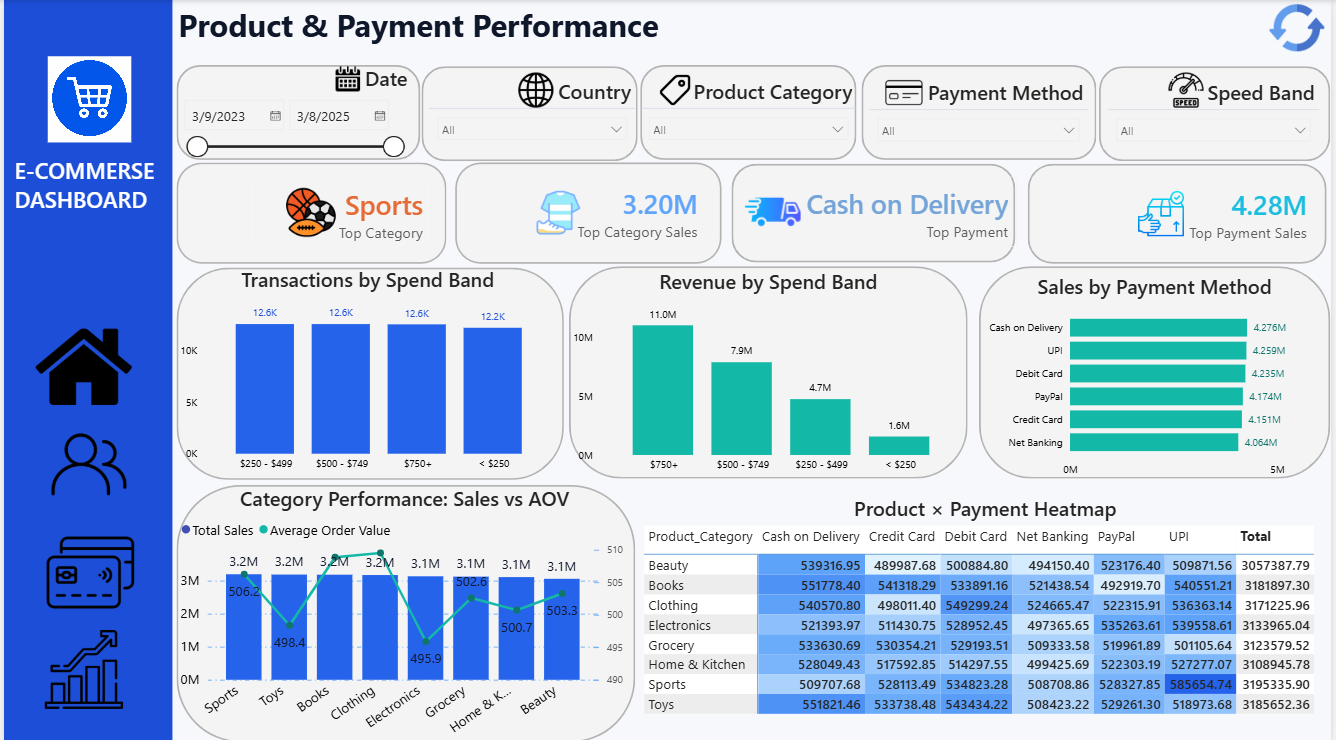

The page's visual inventory and layout, read from the dashboard file:
{"tool":"powerbi","page":{"name":"Page 3","canvas":[1600,900],"ordinal":2},"visuals":[{"type":"shape","box":[0,0,203.6,900.3],"z":0},{"type":"image","box":[52.8,67.9,101,104.1],"z":1000},{"type":"textbox","box":[7.5,182.5,190,89],"z":2000},{"type":"image","box":[45.2,760.1,102.5,95],"z":3000},{"type":"image","box":[57.3,500.7,90.5,119.1],"z":4000},{"type":"image","box":[48.3,637.9,111.6,105.6],"z":5000},{"type":"shape","box":[208.1,78.4,294.1,114.6],"z":6000},{"type":"slicer","title":"Date","fields":{"Values":["DimDate.Date"]},"box":[205.1,78.4,286.5,114.6],"z":7000},{"type":"shape","box":[767.6,78.4,260.9,114.6],"z":8000},{"type":"shape","box":[1034.5,78.4,283.5,114.6],"z":9000},{"type":"shape","box":[503.7,79.9,260.9,114.6],"z":10000},{"type":"slicer","title":"Country","fields":{"Values":["Transactions.Country"]},"box":[512.7,93.5,248.8,84.5],"z":11000},{"type":"slicer","title":"Payment Method","fields":{"Values":["Transactions.Payment_Method"]},"box":[1043.6,95,263.9,87.5],"z":12000},{"type":"slicer","title":"Product Category","fields":{"Values":["Transactions.Product_Category"]},"box":[767.6,93.5,260.9,86],"z":13000},{"type":"shape","box":[208.1,196,325.7,122.2],"z":14000},{"type":"shape","box":[1235.1,197.6,360.4,120.6],"z":15000},{"type":"shape","box":[877.7,197.6,342.3,119.1],"z":16000},{"type":"shape","box":[544.4,196,321.2,122.2],"z":17000},{"type":"image","box":[380,79.9,69.4,30.2],"z":18000},{"type":"image","box":[609.3,87.5,64.8,42.2],"z":19000},{"type":"image","box":[767.6,89,84.5,39.2],"z":20000},{"type":"image","box":[1034.5,89,102.5,45.2],"z":21000},{"type":"cardVisual","title":"ye","fields":{"Data":["Dax.Top Category"]},"box":[277.5,197.6,256.4,119.1],"z":22000},{"type":"cardVisual","fields":{"Data":["Dax.Top Category Sales"]},"box":[604.7,196,260.9,119.1],"z":23000},{"type":"cardVisual","fields":{"Data":["Dax.Top Payment"]},"box":[927.5,196,312.2,119.1],"z":24000},{"type":"cardVisual","fields":{"Data":["Dax.Top Payment Sales"]},"box":[1376.9,197.6,223.2,119.1],"z":25000},{"type":"shape","box":[208.1,322.7,467.5,256.4],"z":26000},{"type":"shape","box":[1176.3,321.2,423.8,256.4],"z":27000},{"type":"shape","box":[208.1,585.1,553.5,310.7],"z":28000},{"type":"shape","box":[682,321,481.1,256.4],"z":29000},{"type":"image","box":[1518,0,82.3,66.9],"z":30000},{"type":"shape","box":[1321.1,79.9,279,114.6],"z":31000},{"type":"slicer","title":"Speed Band","fields":{"Values":["Transactions.Spend Band"]},"box":[1331.6,95,254.9,87.5],"z":32000},{"type":"pivotTable","title":"Product × Payment Heatmap","fields":{"Rows":["Transactions.Product_Category"],"Columns":["Transactions.Payment_Method"],"Values":["Dax.Total Sales"]},"box":[767.6,597.2,832.4,303.1],"z":33000},{"type":"textbox","box":[205.1,0,654.5,67.9],"z":34000},{"type":"image","box":[1390.4,87.5,70.9,42.2],"z":35000},{"type":"image","box":[336.3,226.2,67.9,60.3],"z":36000},{"type":"image","box":[642.4,226.2,52.8,60.3],"z":37000},{"type":"image","box":[888.2,217.2,78.4,76.9],"z":38000},{"type":"image","box":[1366.3,227.7,58.8,60.3],"z":39000},{"type":"lineClusteredColumnComboChart","title":"Category Performance: Sales vs AOV","fields":{"Y":["Dax.Total Sales"],"Category":["Transactions.Product_Category"],"Y2":["Dax.Average Order Value"]},"box":[208.1,585.1,550.4,315.2],"z":40000},{"type":"clusteredBarChart","title":"Sales by Payment Method","fields":{"Category":["Transactions.Payment_Method"],"Y":["Dax.Total Sales"]},"box":[1176.3,328.8,423.8,256.4],"z":41000},{"type":"clusteredColumnChart","title":"Transactions by Spend Band","fields":{"Category":["Transactions.Spend Band"],"Y":["Dax.Transactions Count"]},"box":[208.1,321.2,461.5,256.4],"z":42000},{"type":"clusteredColumnChart","title":"Revenue by Spend Band","fields":{"Category":["Transactions.Spend Band"],"Y":["Dax.Total Sales"]},"box":[681.6,322.7,481.1,256.4],"z":43000},{"type":"image","box":[28.7,384.6,135.7,116.1],"z":44000}]}

Visuals, with their boxes in screenshot pixels (x1, y1, x2, y2), scaled from the page's 1600x900 canvas onto the 1336x740 screenshot:
shape: 0 0 170 739
image: 44 56 128 141
textbox: 6 150 165 223
image: 38 625 123 703
image: 48 412 123 510
image: 40 524 134 611
shape: 174 64 419 159
"Date" slicer: 171 64 410 159
shape: 641 64 859 159
shape: 864 64 1101 159
shape: 421 66 638 160
"Country" slicer: 428 77 636 146
"Payment Method" slicer: 871 78 1092 150
"Product Category" slicer: 641 77 859 148
shape: 174 161 446 262
shape: 1031 162 1332 262
shape: 733 162 1019 260
shape: 455 161 723 262
image: 317 66 375 91
image: 509 72 563 107
image: 641 73 712 105
image: 864 73 949 110
"ye" cardVisual: 232 162 446 260
cardVisual - Dax.Top Category Sales: 505 161 723 259
cardVisual - Dax.Top Payment: 774 161 1035 259
cardVisual - Dax.Top Payment Sales: 1150 162 1335 260
shape: 174 265 564 476
shape: 982 264 1335 475
shape: 174 481 636 737
shape: 569 264 971 475
image: 1268 0 1335 55
shape: 1103 66 1335 160
"Speed Band" slicer: 1112 78 1325 150
"Product × Payment Heatmap" pivotTable: 641 491 1335 739
textbox: 171 0 718 56
image: 1161 72 1220 107
image: 281 186 338 236
image: 536 186 580 236
image: 742 179 807 242
image: 1141 187 1190 237
"Category Performance: Sales vs AOV" lineClusteredColumnComboChart: 174 481 633 739
"Sales by Payment Method" clusteredBarChart: 982 270 1335 481
"Transactions by Spend Band" clusteredColumnChart: 174 264 559 475
"Revenue by Spend Band" clusteredColumnChart: 569 265 971 476
image: 24 316 137 412
